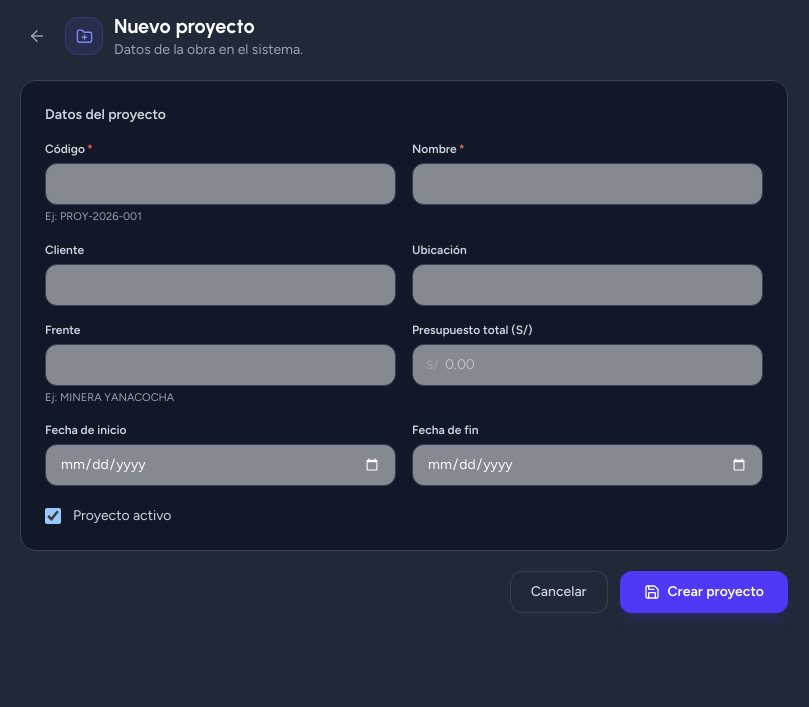
Test case: ProjectFormPage — crear › muestra el error de validación del backend en el campo correspondiente
Type "PRY-DUP" into the field labelled "Código*".
click(220, 184); type("PRY-DUP")  # box left=45, top=163, right=396, bottom=205
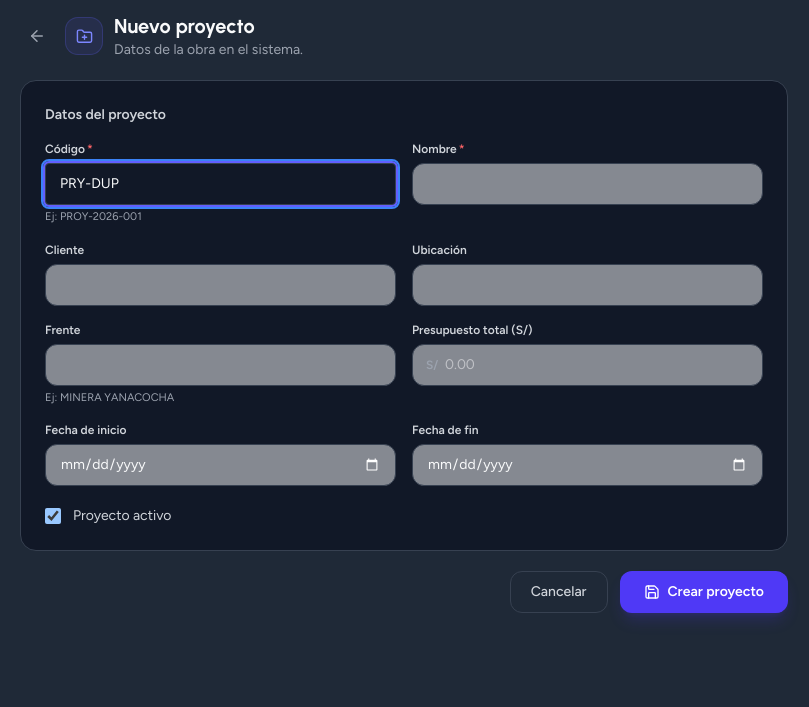
Type "Proyecto Duplicado" into the field labelled "Nombre*".
click(588, 184); type("Proyecto Duplicado")  # box left=412, top=163, right=763, bottom=205
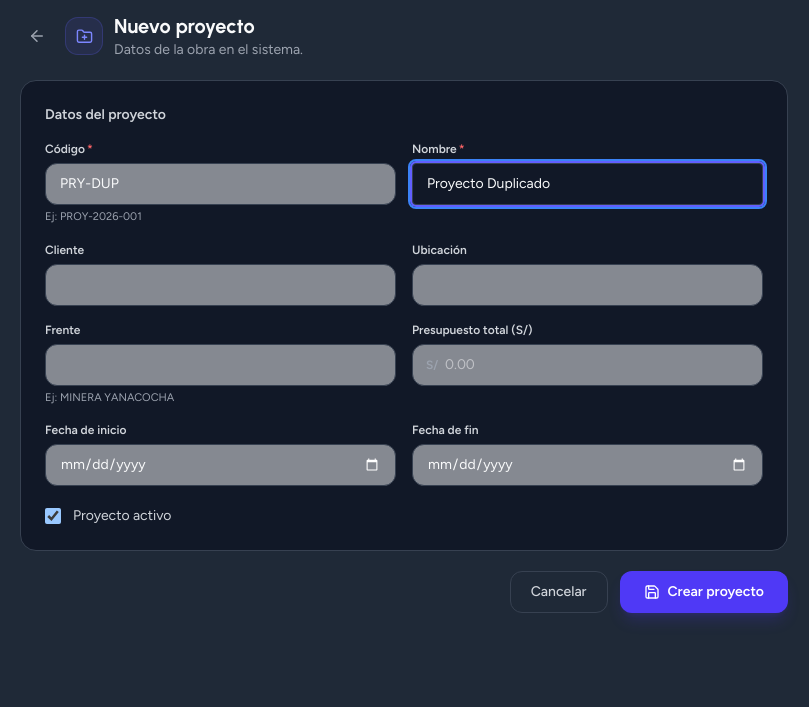
Click the button "Crear proyecto".
click(704, 592)  # box left=620, top=571, right=788, bottom=613
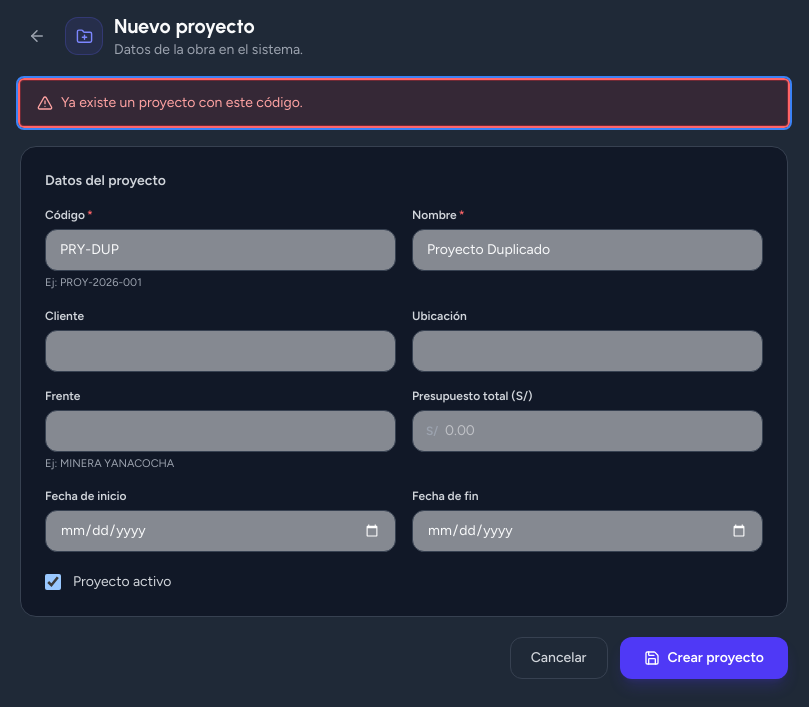
expect the text "Ya existe un proyecto con este código." is shown: met, box left=20, top=80, right=788, bottom=126
